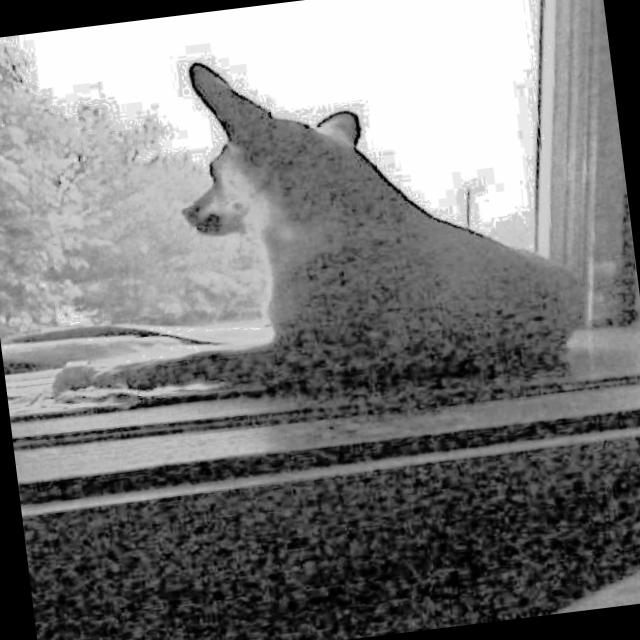Dog: (42, 11, 604, 434)
